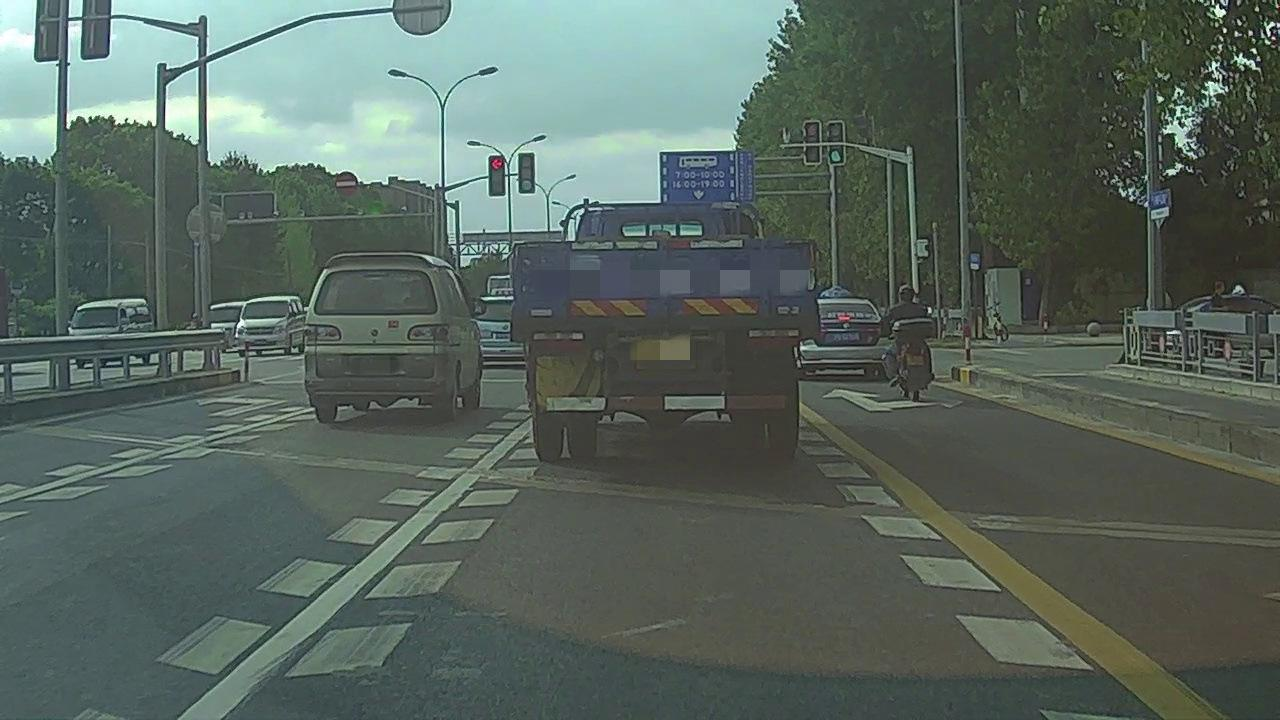traffic_light: (519, 153, 535, 193), (489, 156, 504, 196), (829, 123, 843, 163), (806, 123, 819, 162)
